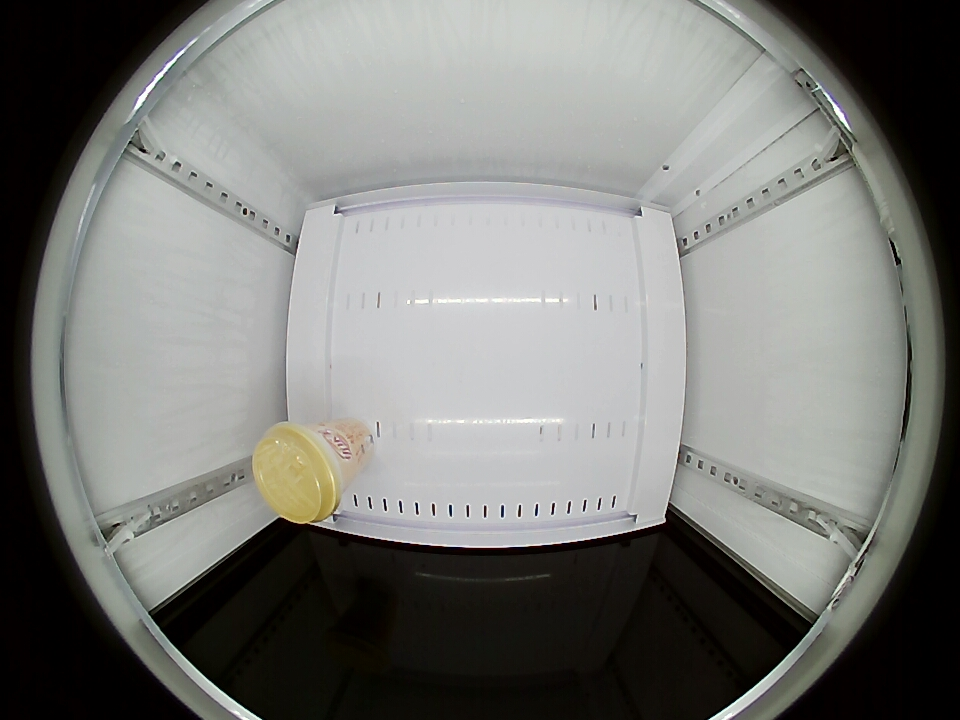youlemei: (253, 421, 348, 525)
